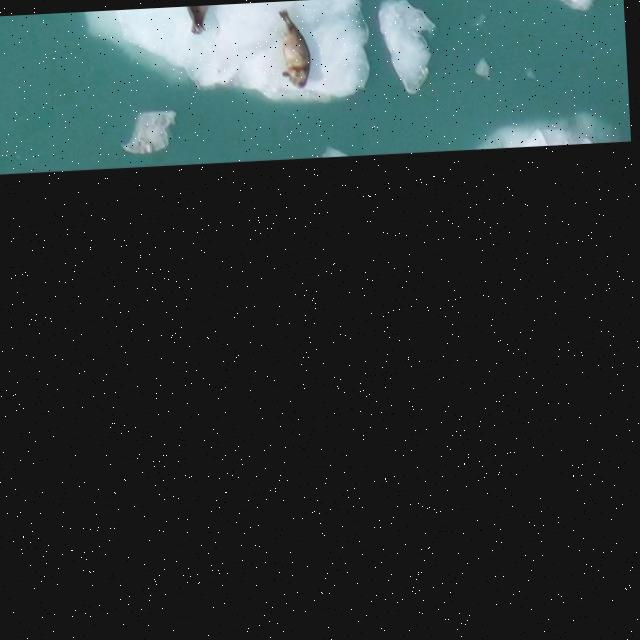seal: (277, 7, 312, 89), (188, 5, 211, 33)
